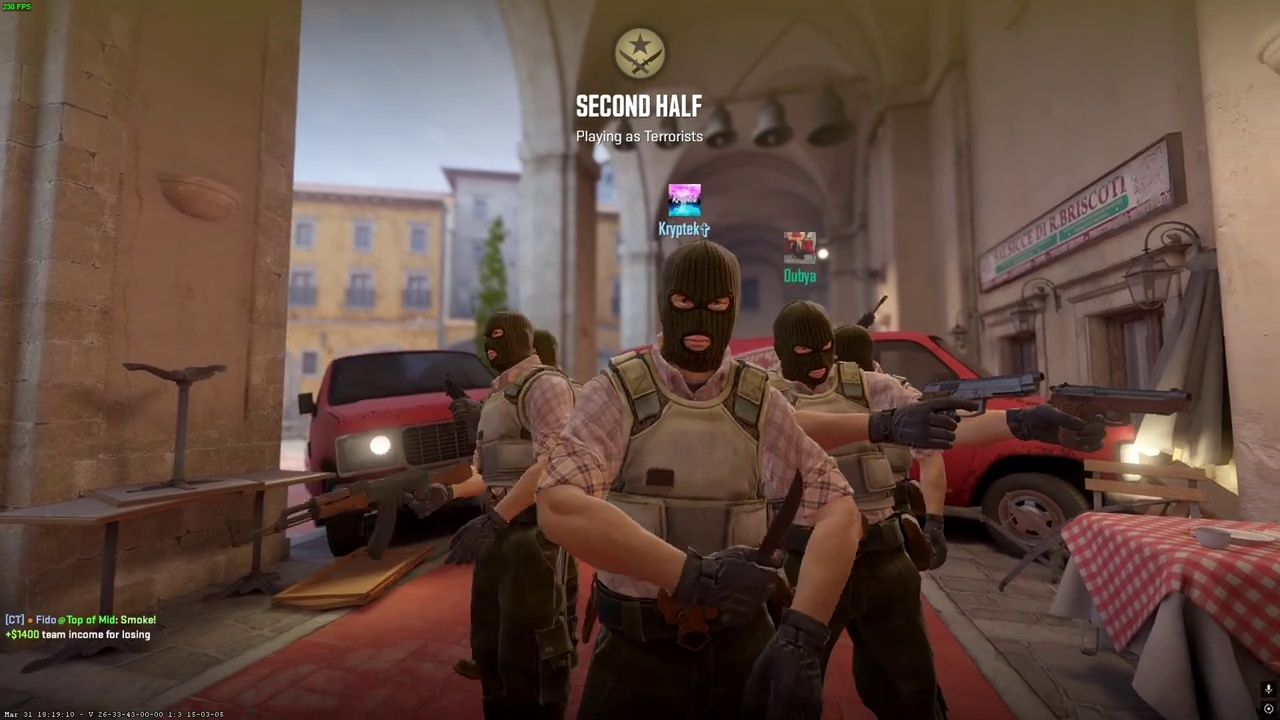Terrorist: (540, 243, 833, 720), (770, 293, 964, 720), (414, 310, 594, 719)
